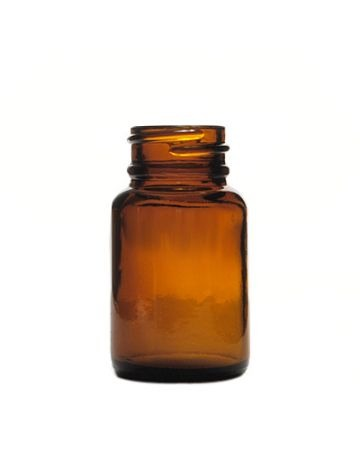container: (104, 119, 254, 385)
